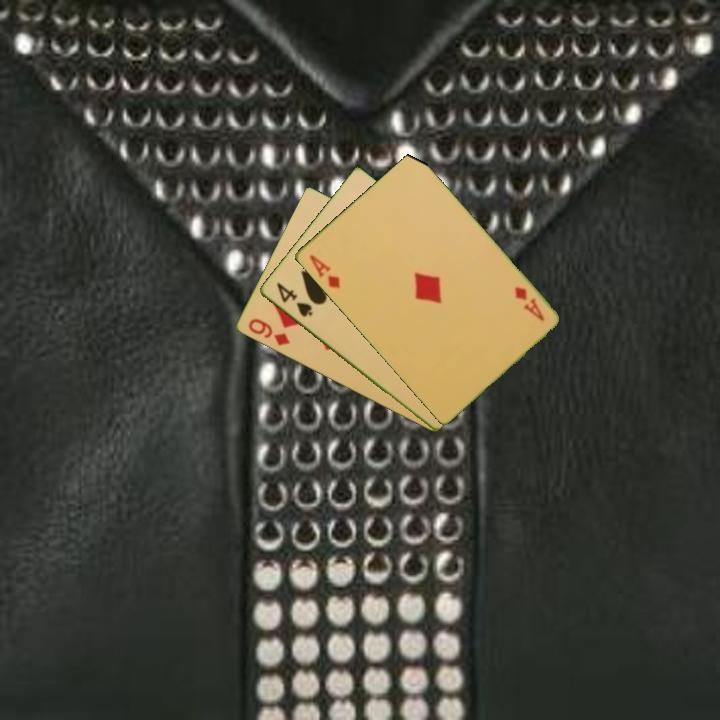4s: (272, 279, 315, 320)
9d: (244, 315, 293, 349)
Ad: (305, 251, 343, 292), (510, 283, 547, 324)
